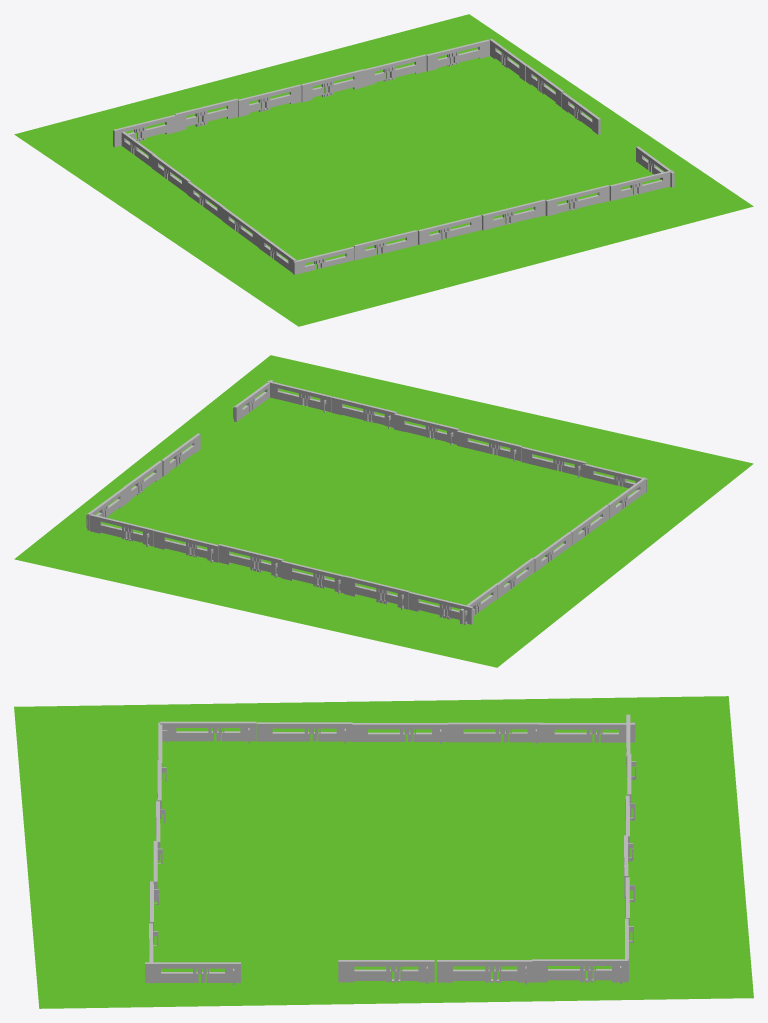
The model's file is foundation.obj.
3 renders of one model, top to bottom at view 1: azimuth 30°, elevation 25°; view 2: azimuth 150°, elevation 25°; view 3: azimuth 270°, elevation 25°, orthographic. The views are drawn at different scales.
Visible parts, largest first — view 1: Plane_Plane.002, Cube.114_Cube.008, Cube.114_Cube.010, Cube.114_Cube.009, Cube.114_Cube.007, Cube.114_Cube.006, Cube.114_Cube.012, Cube.114_Cube.013, Cube.114_Cube.011, Cube.114_Cube.015, Cube.114_Cube.014, Cube.114_Cube.016 (+9 smaller); view 2: Plane_Plane.002, Cube.114_Cube.010, Cube.114_Cube.008, Cube.114_Cube.009, Cube.114_Cube.007, Cube.114_Cube.016, Cube.114_Cube.006, Cube.114_Cube.012, Cube.114_Cube.013, Cube.114_Cube.014, Cube.114_Cube.011, Cube.114_Cube.015 (+10 smaller); view 3: Plane_Plane.002, Cube.114_Cube.002, Cube.114_Cube.003, Cube.114_Cube.001, Cube.114_Cube.021, Cube.114_Cube.018, Cube.114_Cube.005, Cube.114_Cube.019, Cube.114_Cube.022, Cube.114_Cube.020.
Part boxes in pixels (x1,y1,x2,y2): Plane_Plane.002: (14,14,753,326); Cube.114_Cube.008: (300,69,364,102); Cube.114_Cube.010: (174,98,238,131); Cube.114_Cube.009: (238,84,301,116); Cube.114_Cube.007: (364,54,426,86); Cube.114_Cube.006: (426,39,489,71); Cube.114_Cube.012: (545,185,609,216); Cube.114_Cube.013: (481,199,545,230); Cube.114_Cube.011: (609,170,673,200); Cube.114_Cube.015: (353,230,417,260); Cube.114_Cube.014: (418,215,481,245); Cube.114_Cube.016: (113,115,176,147); Plane_Plane.002: (14,355,753,667); Cube.114_Cube.010: (344,575,409,609); Cube.114_Cube.008: (218,544,283,577); Cube.114_Cube.009: (281,560,345,593); Cube.114_Cube.007: (154,530,218,562); Cube.114_Cube.016: (408,591,473,624); Cube.114_Cube.006: (90,514,154,546); Cube.114_Cube.012: (331,396,396,428); Cube.114_Cube.013: (394,413,459,444); Cube.114_Cube.014: (457,430,522,461); Cube.114_Cube.011: (267,381,332,412); Cube.114_Cube.015: (521,447,586,477); Plane_Plane.002: (14,696,753,1008); Cube.114_Cube.002: (532,959,628,984); Cube.114_Cube.003: (338,960,434,984); Cube.114_Cube.001: (437,960,533,984); Cube.114_Cube.021: (447,722,543,744); Cube.114_Cube.018: (160,721,256,743); Cube.114_Cube.005: (145,962,240,985); Cube.114_Cube.019: (256,722,352,743); Cube.114_Cube.022: (538,723,634,742); Cube.114_Cube.020: (352,723,447,744).
Size of the model in its own units: 52.08 by 2.74 by 52.08.
